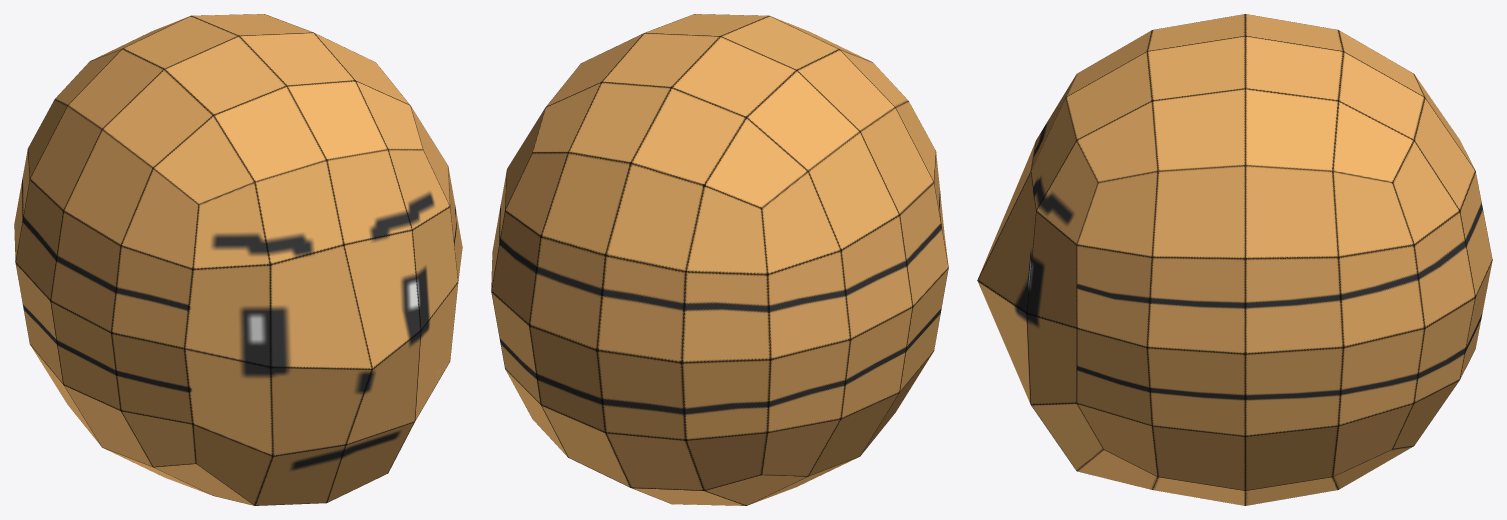
File: player.obj
3 renders of one model, left to right at view 1: azimuth 30°, elevation 25°; view 2: azimuth 150°, elevation 25°; view 3: azimuth 270°, elevation 25°, orthographic. The views are drawn at different scales.
Parts seen in each view (by area): view 1: 立方体; view 2: 立方体; view 3: 立方体.
Part boxes in pixels (x1,y1,x2,y2): 立方体: [14, 14, 462, 505]; 立方体: [491, 14, 948, 505]; 立方体: [977, 14, 1492, 505].
Bounding box in the file's own units: 1.51 × 1.68 × 1.75.
1 material, 1 textured.
